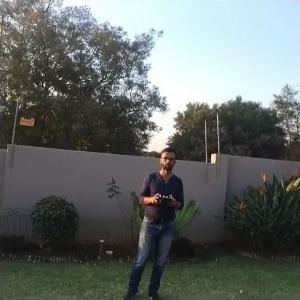follow: (116, 142, 187, 299)
